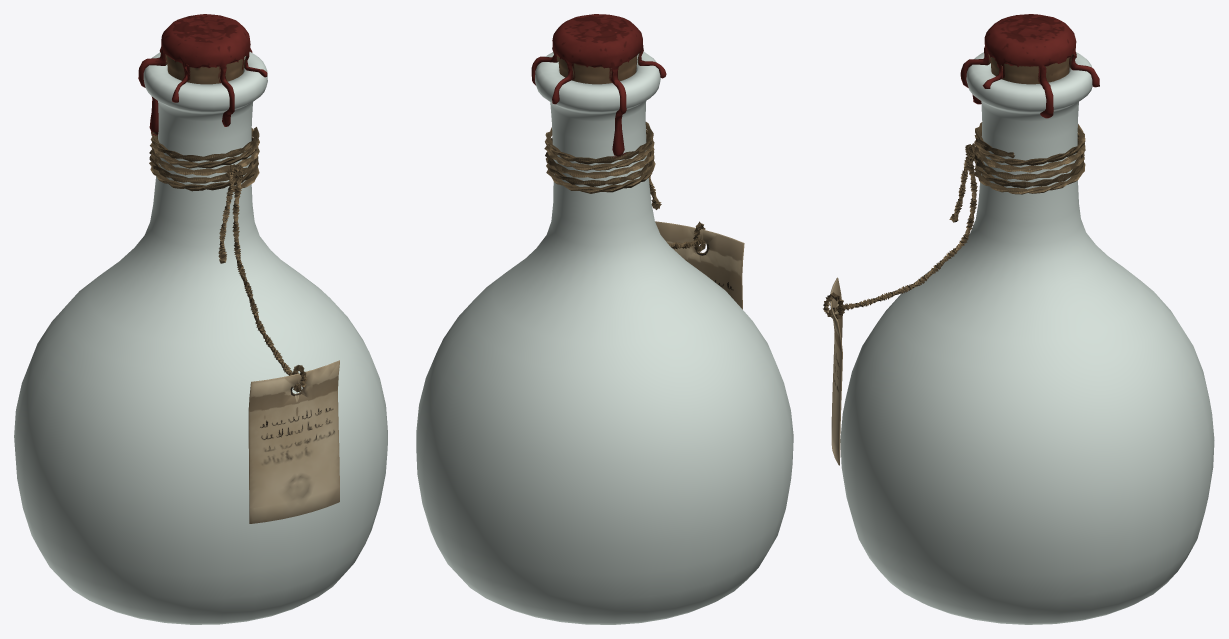
The model's file is SM_Potion.glb.
The picture shows the model from 3 angles, left to right: view 1: azimuth 30°, elevation 25°; view 2: azimuth 150°, elevation 25°; view 3: azimuth 270°, elevation 25°; orthographic projection.
Visible parts, largest first — view 1: SM_Potion_Glass, SM_Potion; view 2: SM_Potion_Glass, SM_Potion; view 3: SM_Potion_Glass, SM_Potion.
Part boxes in pixels (box(x1,y1,x2,y2)): SM_Potion_Glass: box(14, 52, 387, 624); SM_Potion: box(138, 14, 339, 523); SM_Potion_Glass: box(416, 51, 793, 624); SM_Potion: box(531, 14, 744, 309); SM_Potion_Glass: box(840, 52, 1214, 624); SM_Potion: box(823, 14, 1099, 465).
Size of the model in its own units: 0.09 by 0.1413 by 0.0925.
2 materials, 1 textured.
